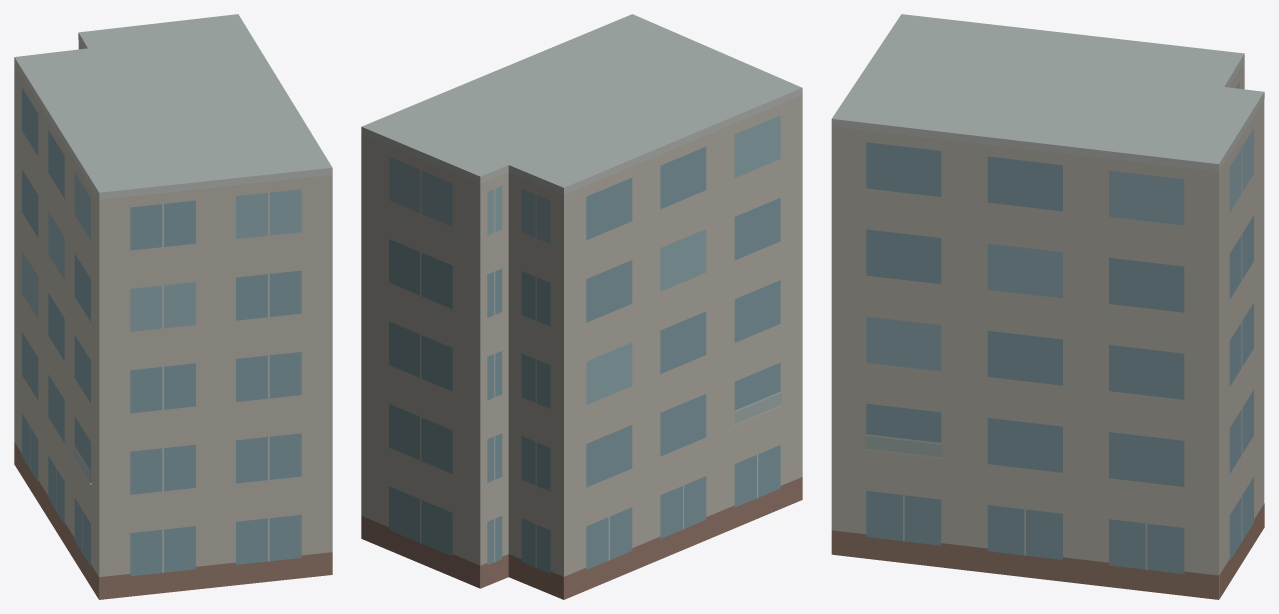
File: survey-upis-32745933.glb
3 views of the same model, side by side, from view 1: azimuth 30°, elevation 25°; view 2: azimuth 150°, elevation 25°; view 3: azimuth 270°, elevation 25° (orthographic). The views are drawn at different scales.
Parts seen in each view (by area): view 1: survey-upis-32745933.tmp; view 2: survey-upis-32745933.tmp; view 3: survey-upis-32745933.tmp.
Part boxes in pixels (bbox=[...]): survey-upis-32745933.tmp: bbox=[14, 14, 332, 599]; survey-upis-32745933.tmp: bbox=[361, 14, 802, 599]; survey-upis-32745933.tmp: bbox=[831, 14, 1264, 599].
Bounding box in the file's own units: 10.36 × 14 × 12.61.
